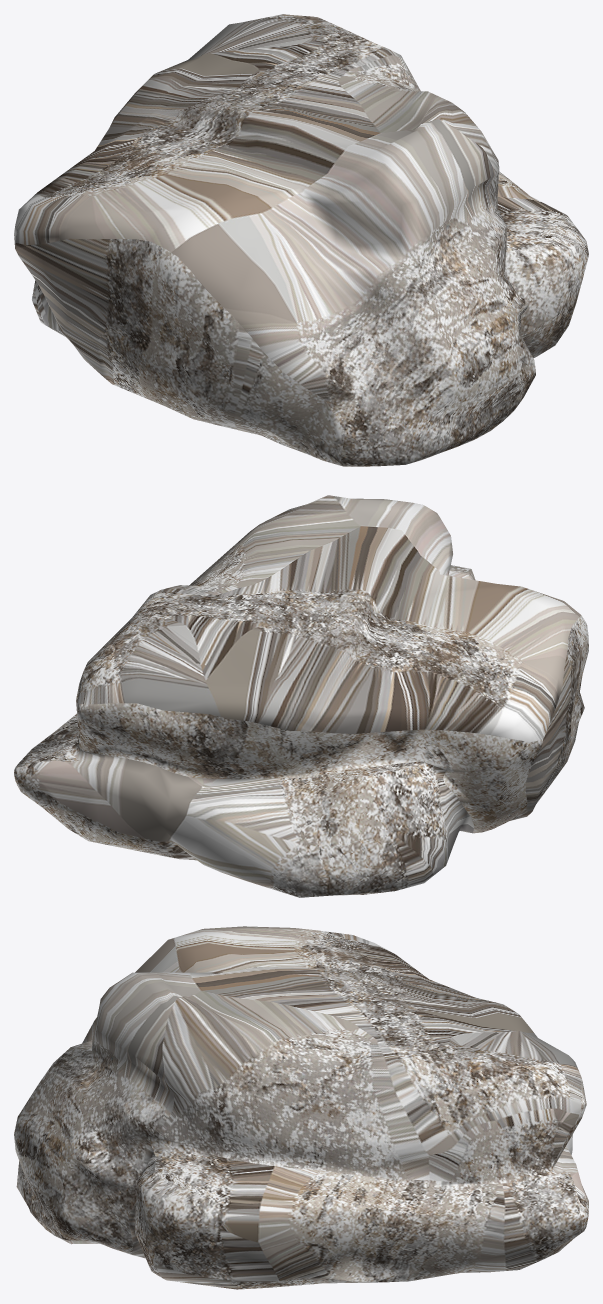
3 renders of one model, top to bottom at view 1: azimuth 30°, elevation 25°; view 2: azimuth 150°, elevation 25°; view 3: azimuth 270°, elevation 25°, orthographic. The views are drawn at different scales.
Parts seen in each view (by area): view 1: Rock_1_Lod; view 2: Rock_1_Lod; view 3: Rock_1_Lod.
Part boxes in pixels (x1,y1,x2,y2): Rock_1_Lod: (14, 14, 588, 466); Rock_1_Lod: (14, 495, 588, 897); Rock_1_Lod: (14, 926, 588, 1289).
Size of the model in its own units: 9.42 by 5.15 by 10.37.
Materials: 1 (1 with a texture image).
